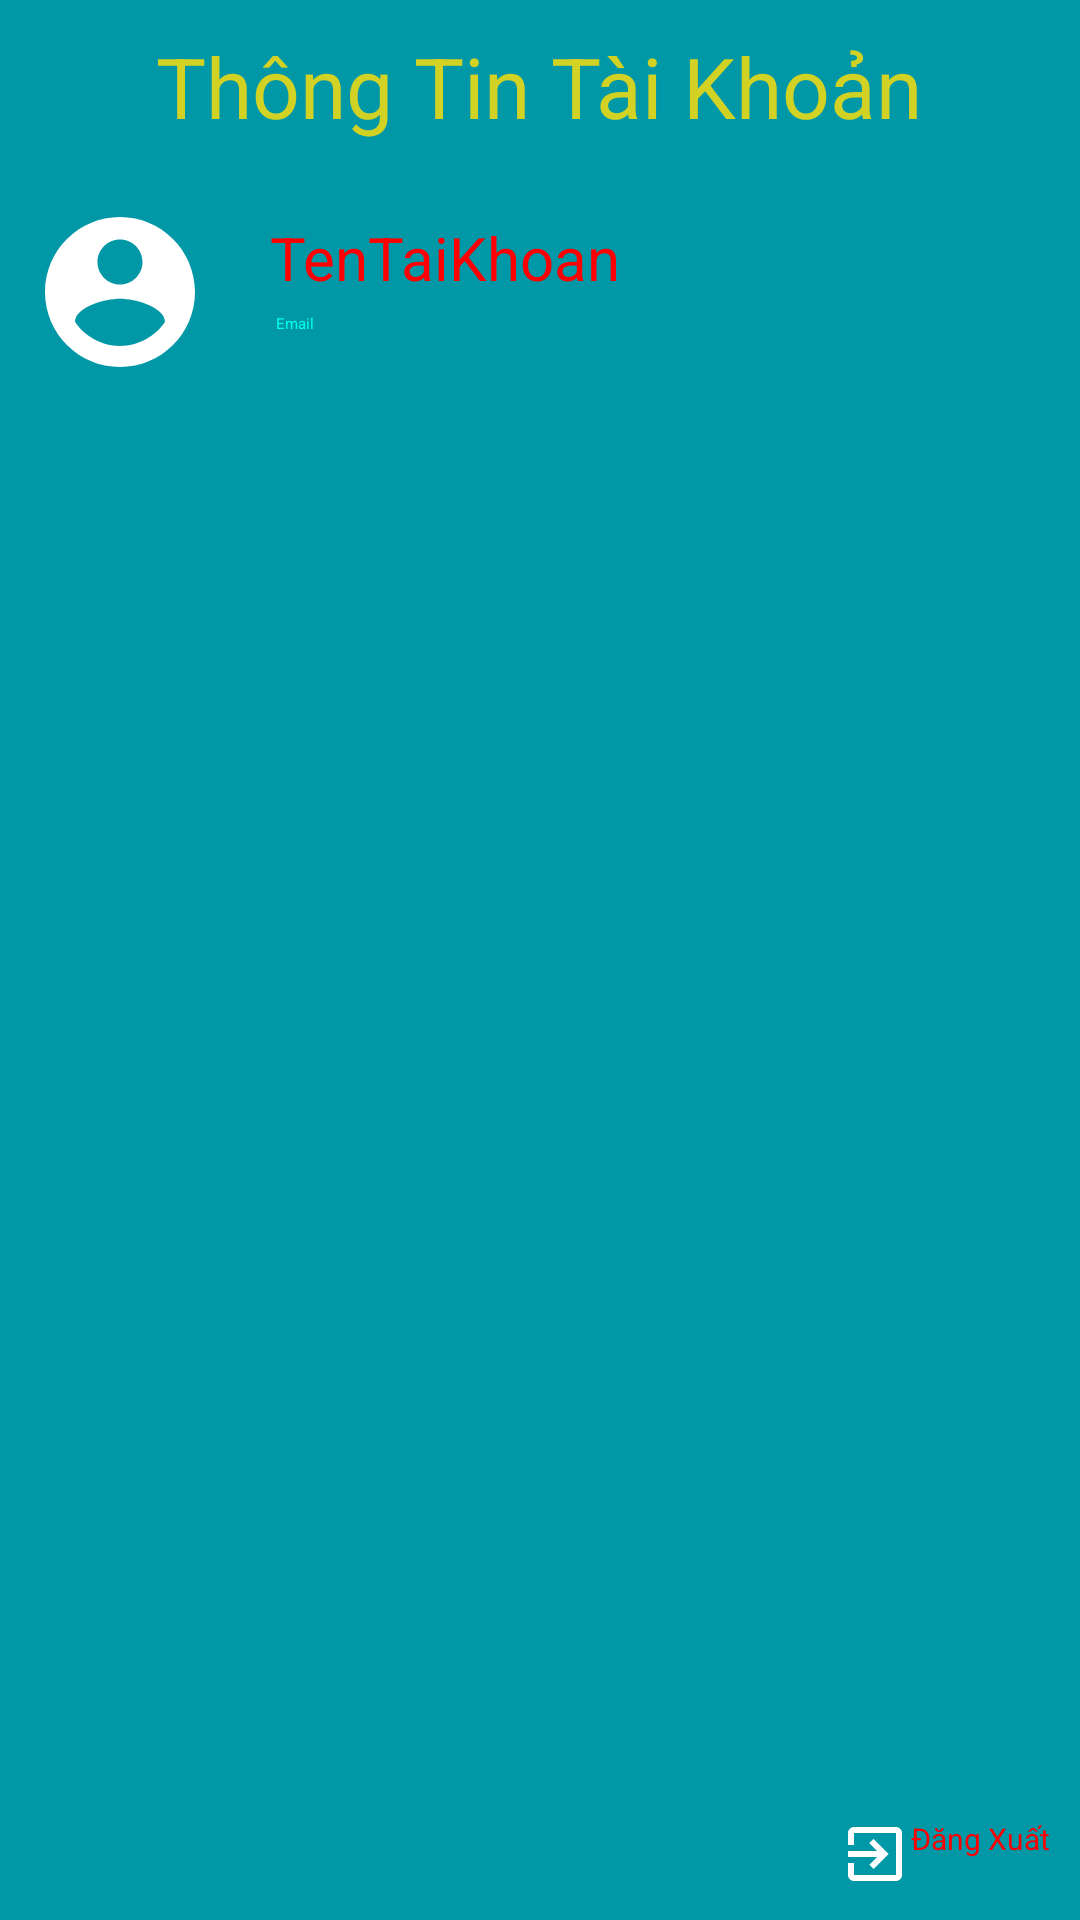

Where to tap for icons on this 1080px x 1920px app screen, as [x,y]:
account circle: [120,292]
